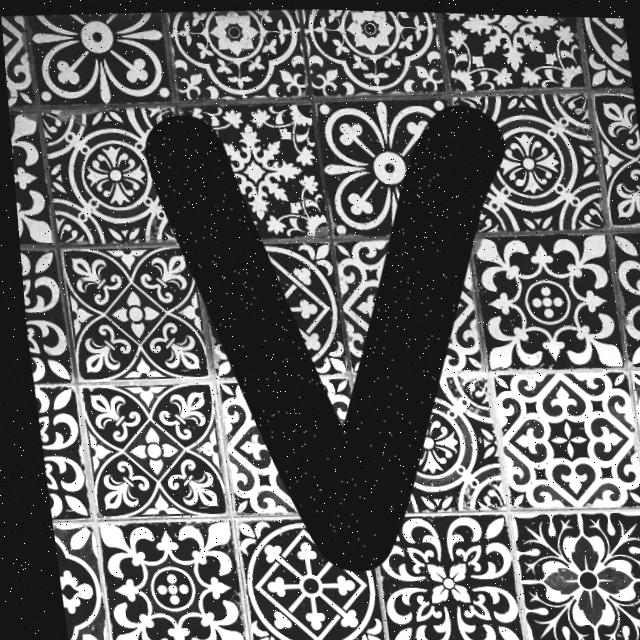V: (144, 103, 503, 569)
